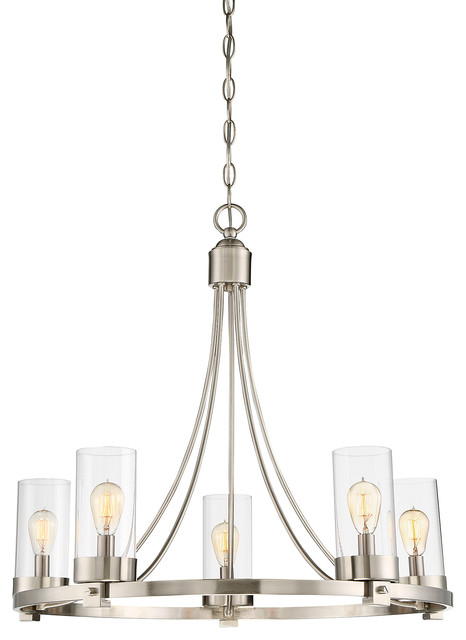chandelier: (8, 5, 456, 637)
